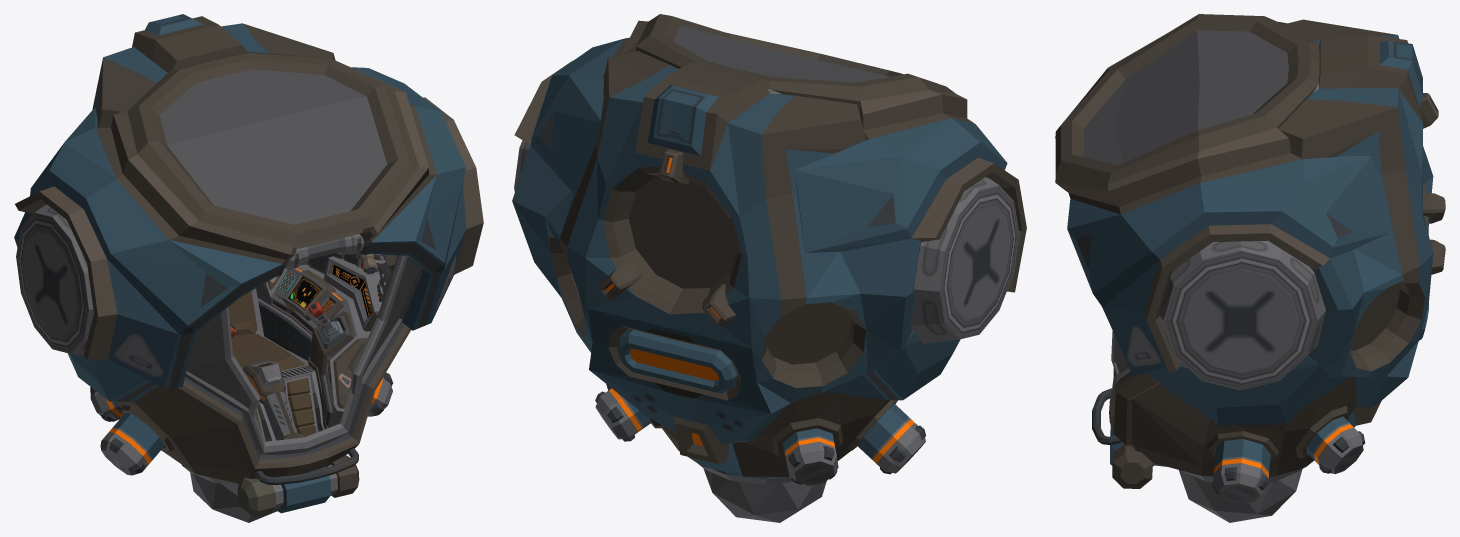
The model's file is SM_Mech_Cockpit_01_Shell_01.fbx.
3 views of the same model, side by side, from view 1: azimuth 30°, elevation 25°; view 2: azimuth 150°, elevation 25°; view 3: azimuth 270°, elevation 25° (orthographic). The views are drawn at different scales.
Visible parts, largest first — view 1: SM_Mech_Cockpit_01_Shell_01; view 2: SM_Mech_Cockpit_01_Shell_01; view 3: SM_Mech_Cockpit_01_Shell_01.
Part boxes in pixels (x1,y1,x2,y2): SM_Mech_Cockpit_01_Shell_01: (14, 14, 483, 522); SM_Mech_Cockpit_01_Shell_01: (512, 14, 1026, 522); SM_Mech_Cockpit_01_Shell_01: (1055, 14, 1445, 522).
Size of the model in its own units: 170 by 182 by 138.
